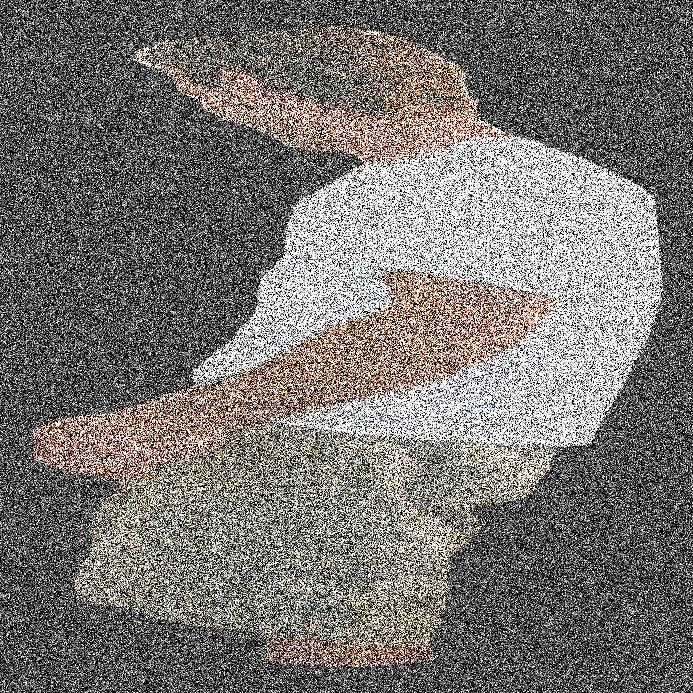Pessoa: (202, 0, 547, 692)
